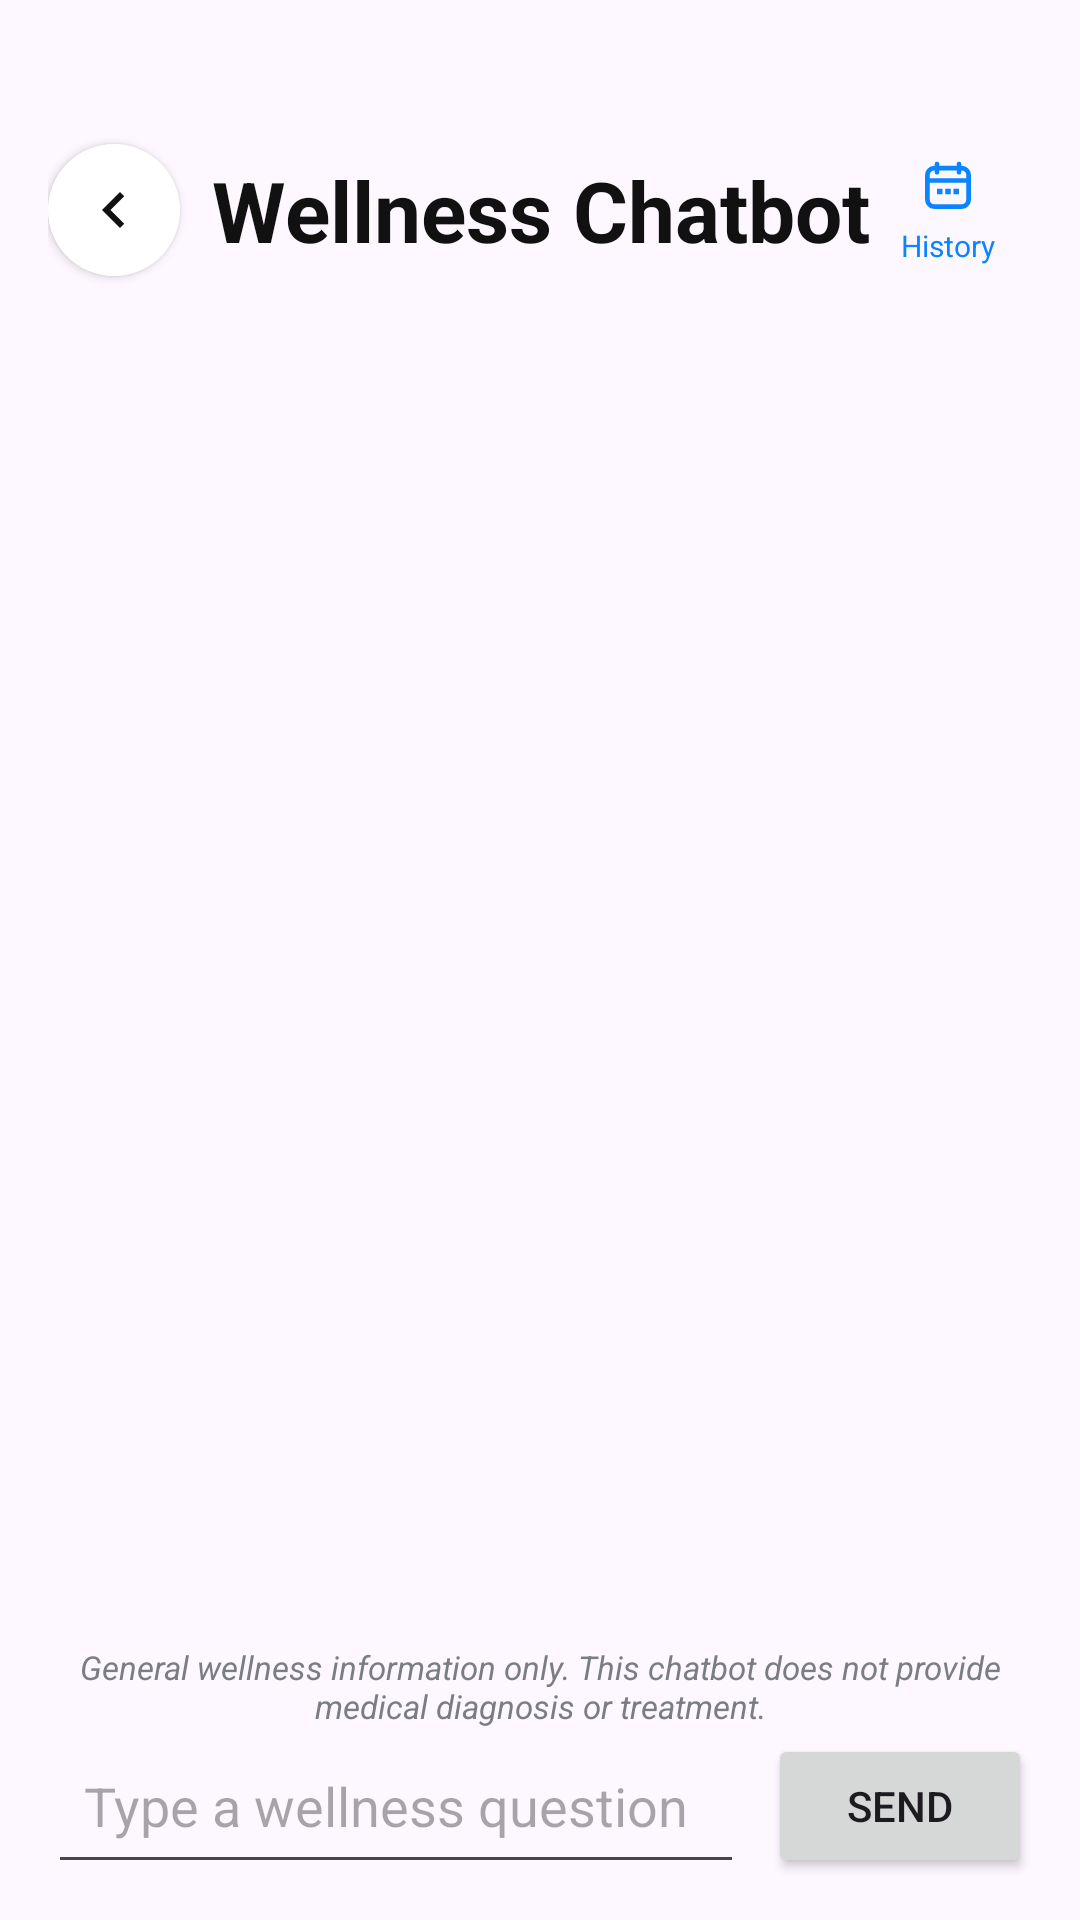

Named icons in this screenshot (1080x1920) and their centers, (x,y):
calendar: (948,185)
